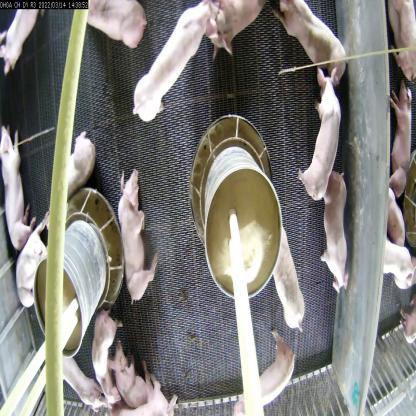Pig: (130, 5, 224, 123), (107, 169, 162, 309), (280, 0, 349, 88), (225, 340, 297, 415), (303, 72, 343, 206), (40, 121, 98, 206), (0, 128, 34, 262), (266, 233, 305, 335), (316, 176, 352, 286), (14, 228, 55, 320), (84, 306, 121, 403), (190, 0, 262, 49), (78, 0, 146, 49), (106, 354, 152, 403), (118, 390, 175, 415)
